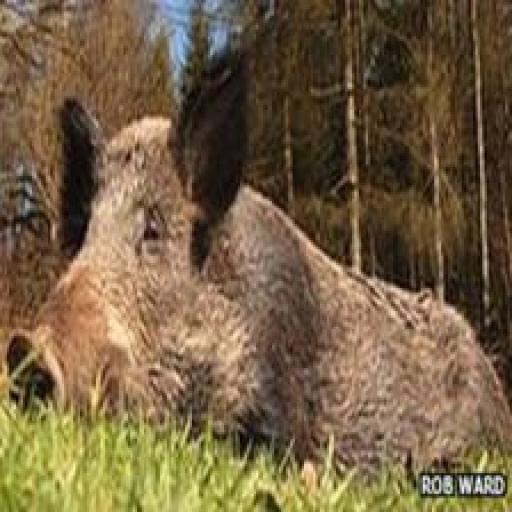Pig: (7, 50, 512, 472)
